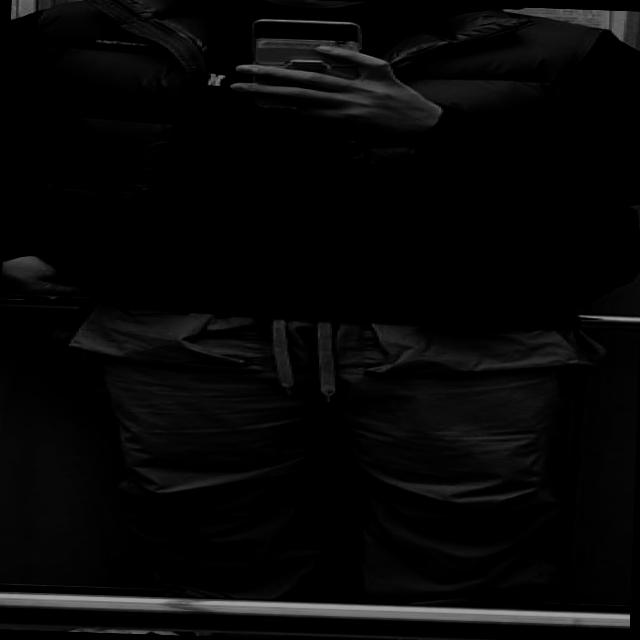cottonpants: (64, 290, 594, 610)
padding: (27, 0, 640, 327)
